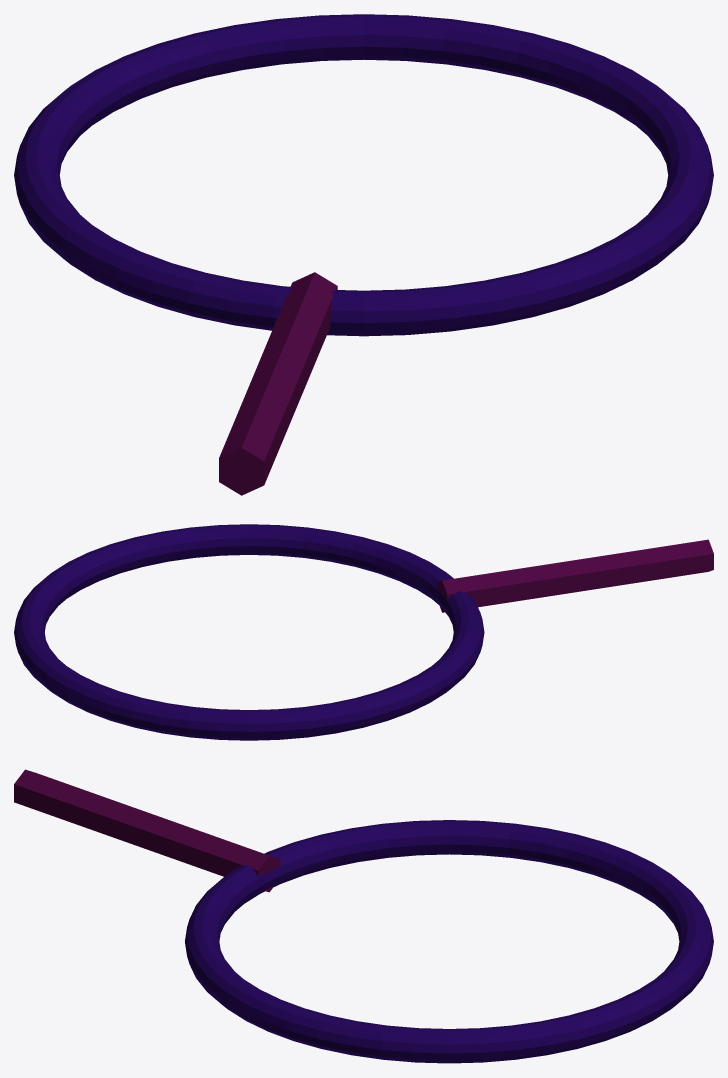
The model's file is magnifier.fbx.
3 renders of one model, top to bottom at view 1: azimuth 30°, elevation 25°; view 2: azimuth 150°, elevation 25°; view 3: azimuth 270°, elevation 25°, orthographic. The views are drawn at different scales.
Parts seen in each view (by area): view 1: Torus, Cylinder; view 2: Torus, Cylinder; view 3: Torus, Cylinder.
Boxes of the visible parts, x1,y1,x2,y2 form: Torus: (14, 14, 713, 336); Cylinder: (219, 272, 337, 495); Torus: (14, 524, 484, 740); Cylinder: (437, 539, 713, 612); Torus: (185, 820, 713, 1063); Cylinder: (14, 769, 280, 892).
Size of the model in its own units: 255 by 17.53 by 283.
